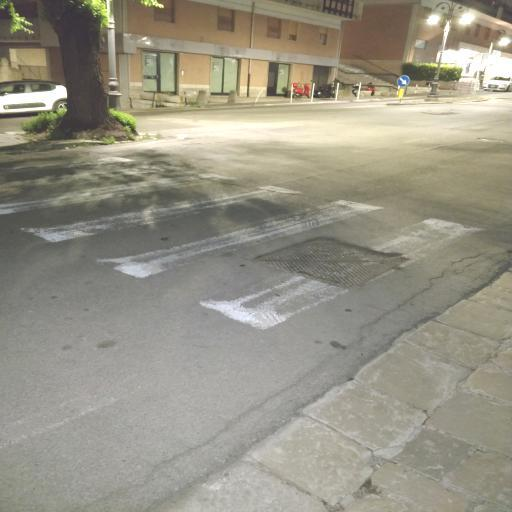crosswalk: (93, 195, 492, 336)
